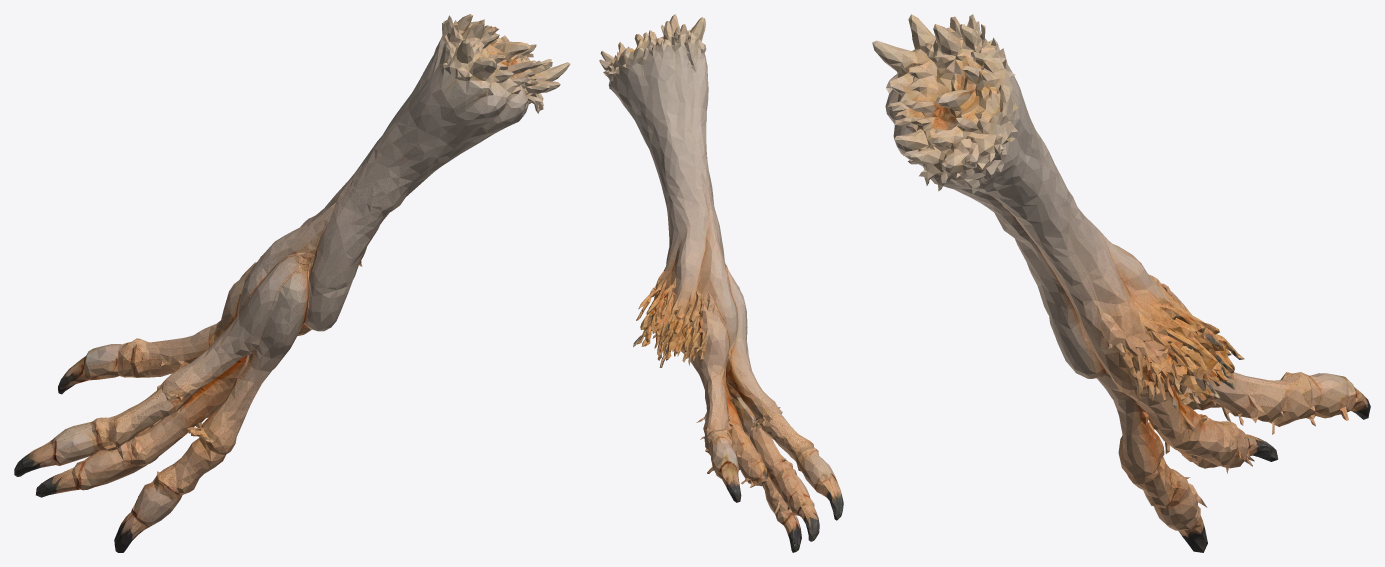
The model's file is foot (44).glb.
3 views of the same model, side by side, from view 1: azimuth 30°, elevation 25°; view 2: azimuth 150°, elevation 25°; view 3: azimuth 270°, elevation 25° (orthographic). The views are drawn at different scales.
Parts seen in each view (by area): view 1: Hy21_Mesh.obj; view 2: Hy21_Mesh.obj; view 3: Hy21_Mesh.obj.
Part boxes in pixels (box(x1,y1,x2,y2)): Hy21_Mesh.obj: box(14, 14, 570, 552); Hy21_Mesh.obj: box(599, 14, 843, 552); Hy21_Mesh.obj: box(872, 14, 1370, 552).
Size of the model in its own units: 1.62 by 1.96 by 1.29.
1 material, 1 textured.
